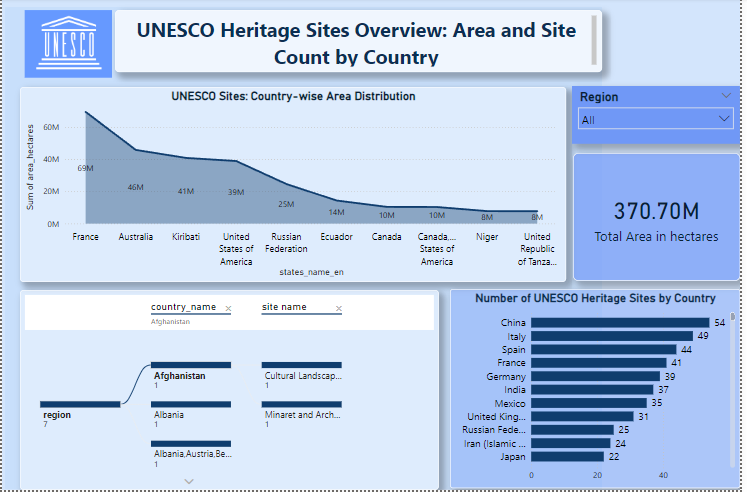

The page's visual inventory and layout, read from the dashboard file:
{"tool":"powerbi","page":{"name":"Dashboard 1","canvas":[1200,800],"ordinal":0},"visuals":[{"type":"group","id":"g1","title":"Group 1","box":[4.1,14,971.5,784.6],"z":0},{"type":"card","fields":{"Values":["sites inscribed properties XLS.Total Area in hectares"]},"box":[928.5,252,271.5,208.1],"z":1000},{"type":"stackedAreaChart","title":"UNESCO Sites: Country-wise Area Distribution","fields":{"Category":["sites inscribed properties XLS.country_name"],"Y":["Sum(sites inscribed properties XLS.area_hectares)"]},"box":[29.2,143.9,887.8,317.1],"z":2000,"group":"g1"},{"type":"barChart","title":"Number of UNESCO Heritage Sites by Country","fields":{"Category":["sites inscribed properties XLS.country_name"],"Y":["CountNonNull(sites inscribed properties XLS.category)"]},"box":[728.5,473.2,471.5,323.6],"z":2000},{"type":"textbox","box":[183.7,19.3,791.9,100.8],"z":3000,"group":"g1"},{"type":"slicer","fields":{"Values":["sites inscribed properties XLS.region_en"]},"box":[926.8,143.1,273.2,94.3],"z":3000},{"type":"image","box":[4.1,14,206.5,120.3],"z":4000,"group":"g1"},{"type":"decompositionTreeVisual","fields":{"Analyze":["Count(sites inscribed properties XLS.region_en)"],"ExplainBy":["sites inscribed properties XLS.country_name","sites inscribed properties XLS.name_en"]},"box":[29.2,473.4,681.3,325.2],"z":5000,"group":"g1"}]}

Visuals, with their boxes in screenshot pixels (x1, y1, x2, y2), scaled from the page's 1200x800 canvas onto the 747x492 screenshot:
"Group 1" group: detection(3, 9, 607, 491)
card - sites inscribed properties XLS.Total Area in hectares: detection(578, 155, 746, 283)
"UNESCO Sites: Country-wise Area Distribution" stackedAreaChart: detection(18, 88, 571, 284)
"Number of UNESCO Heritage Sites by Country" barChart: detection(453, 291, 746, 490)
textbox: detection(114, 12, 607, 74)
slicer - sites inscribed properties XLS.region_en: detection(577, 88, 746, 146)
image: detection(3, 9, 131, 83)
decompositionTreeVisual - Count(sites inscribed properties XLS.region_en) x sites inscribed properties XLS.country_name: detection(18, 291, 442, 491)
